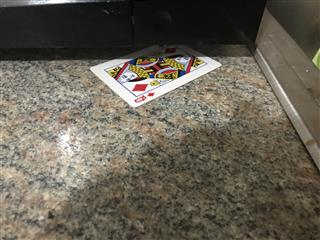QueenOfDiamonds: (89, 44, 222, 107)
